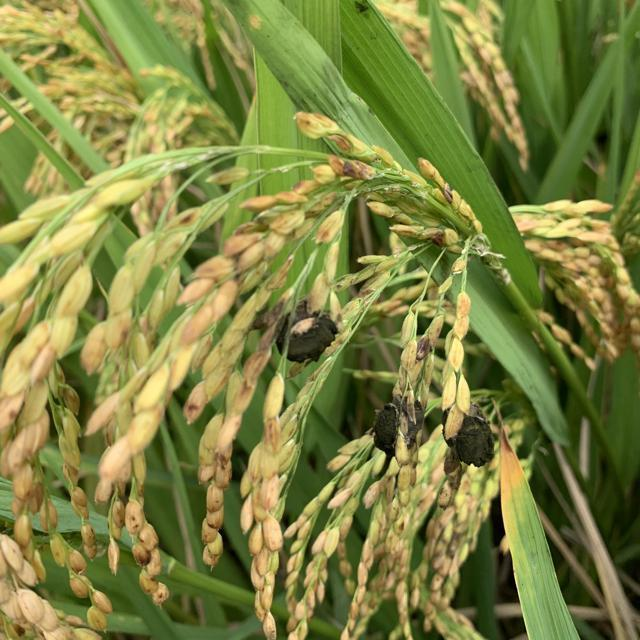Leaf_Scald: (270, 300, 340, 366), (439, 398, 497, 468), (371, 391, 428, 457)
